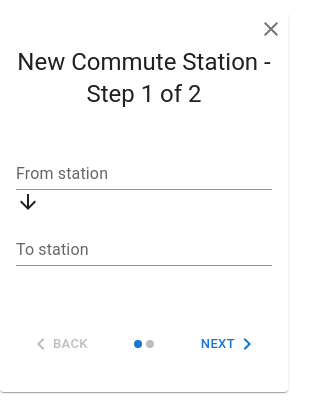
Test: NewCommuteStationForm Component › renders correctly with commute station details
The image size is (320, 411).
expect the text "New Commute Station - Step 1 of 2" is shown: met, box top-left (16, 46), bottom-right (272, 110)
expect the field labelled "From station" is empty: met, box top-left (16, 158), bottom-right (272, 190)
// Navigate to step 2
Click the button "Next" at coordinates (230, 344), box top-left (196, 328), bottom-right (264, 360)
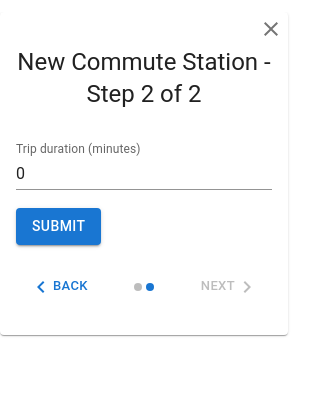
expect the field labelled "Trip duration (minutes)" holds "0": met, box top-left (16, 158), bottom-right (272, 190)
